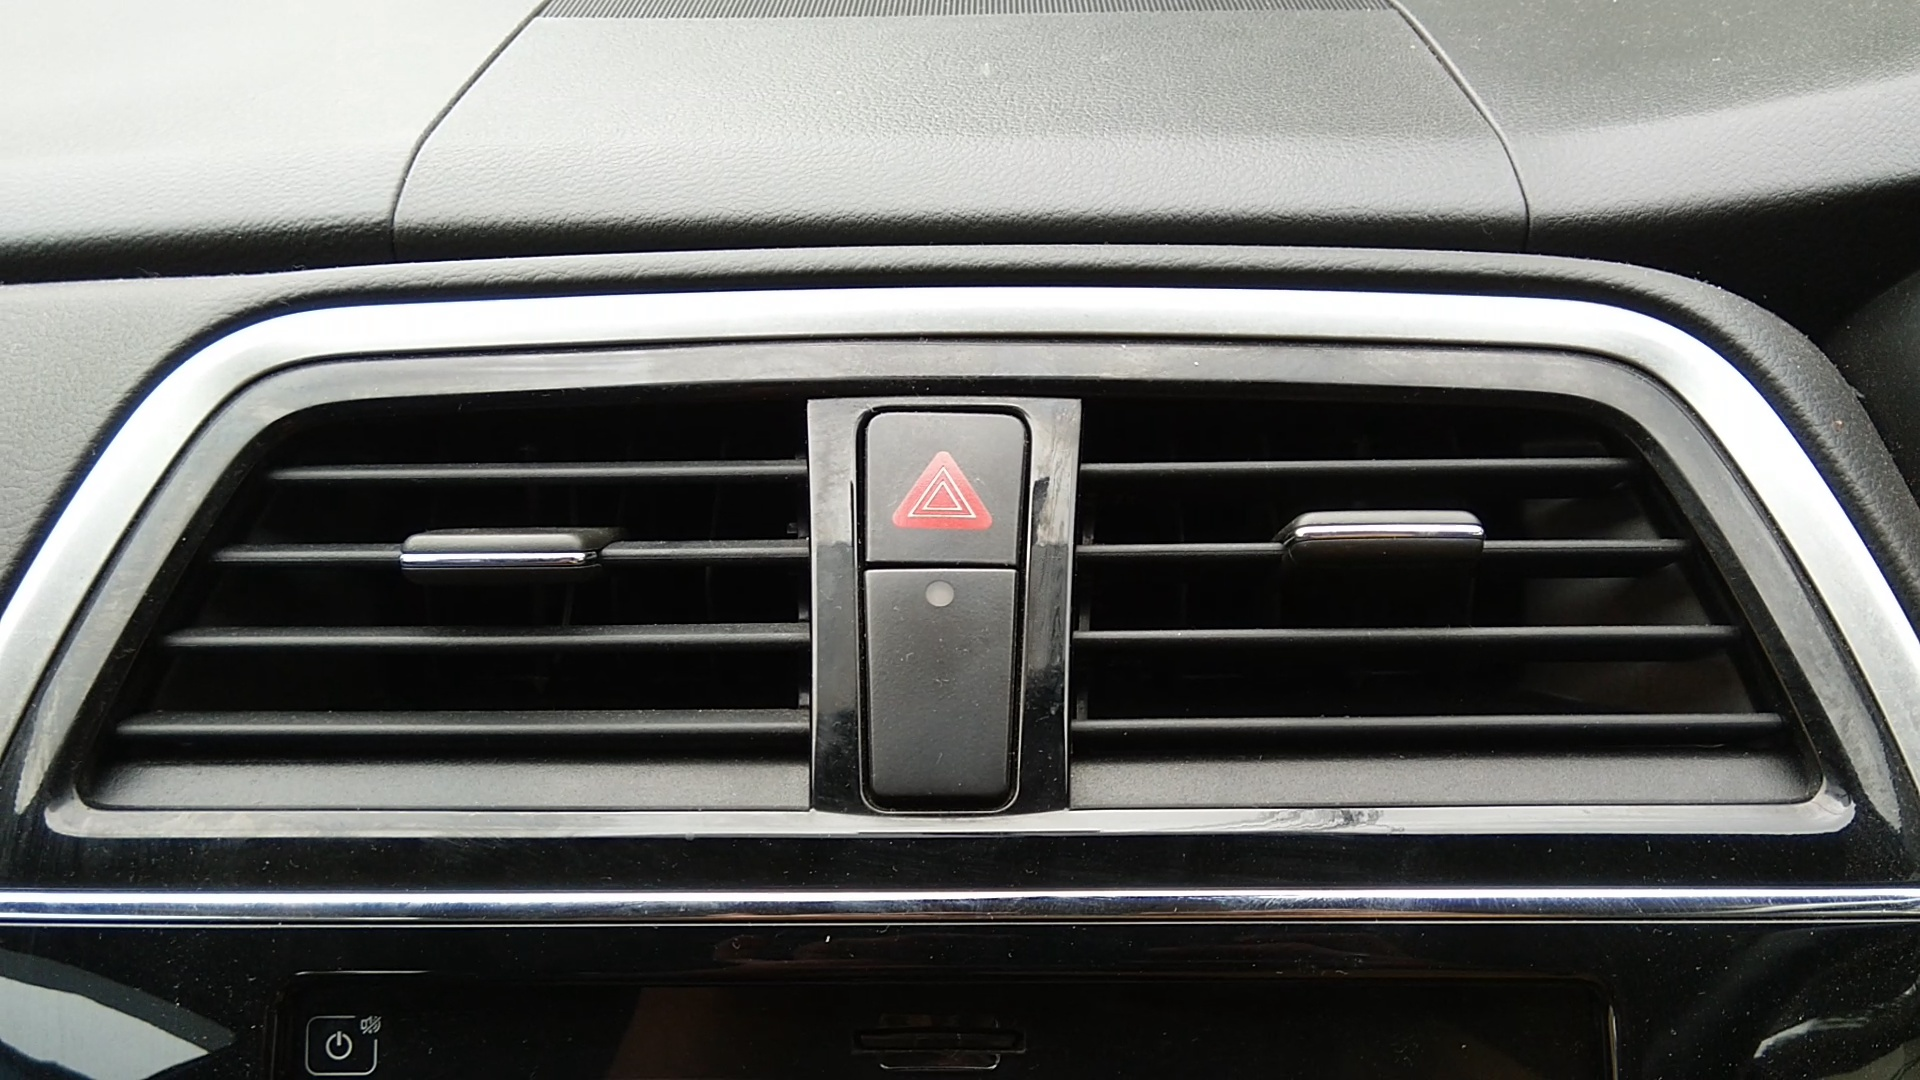parking_button: (881, 425, 1006, 555)
